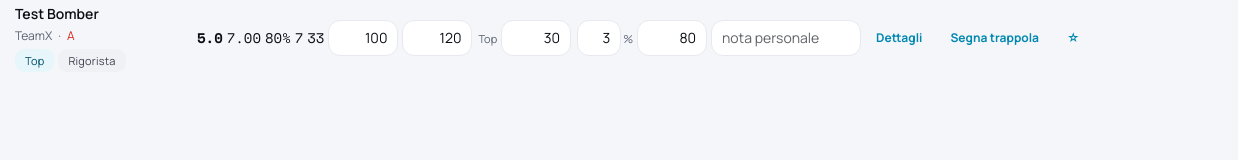
it: MergedValuationRow — max bid come percentuale del budget › rifiuta una percentuale fuori range e mostra un errore
Replace the text in the 4th field with "150" at (599, 38), box top-left (577, 20), bottom-right (621, 56)
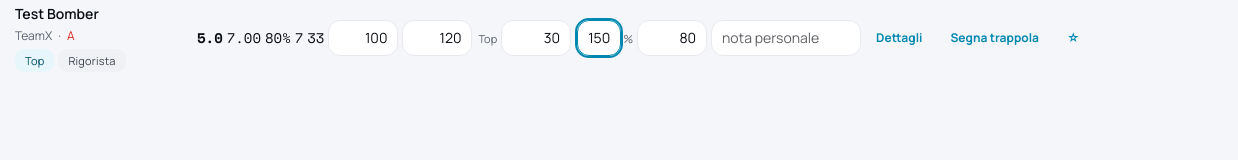
Press Tab
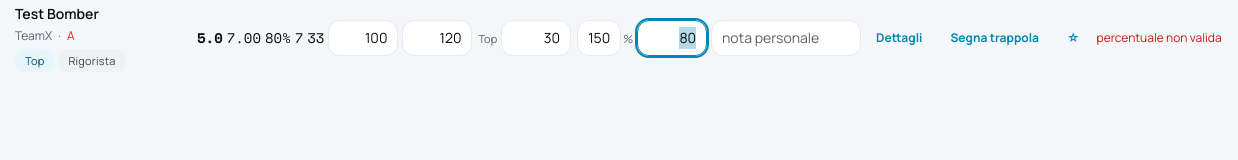
Expected: the text "percentuale non valida" is shown, top-left (1096, 30), bottom-right (1222, 46)
